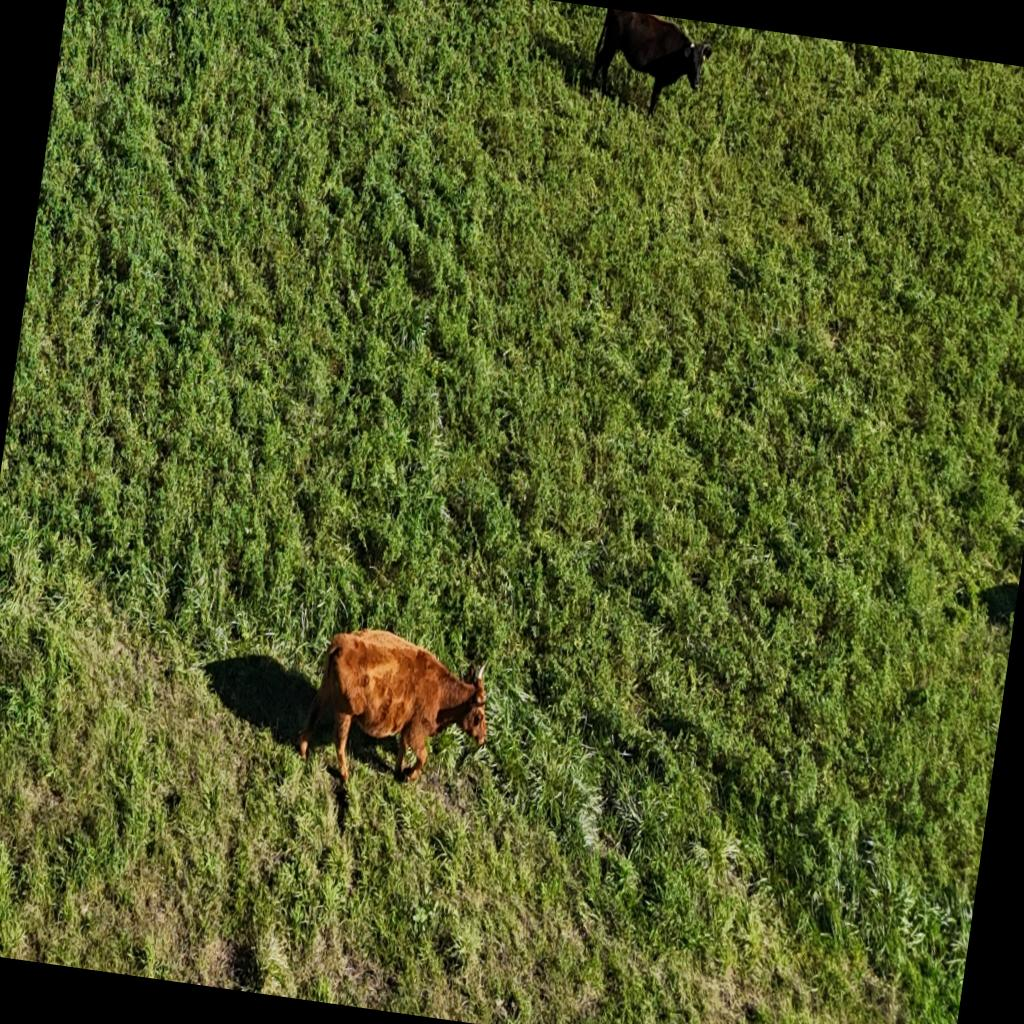cow: (292, 610, 500, 799), (578, 7, 714, 129)
